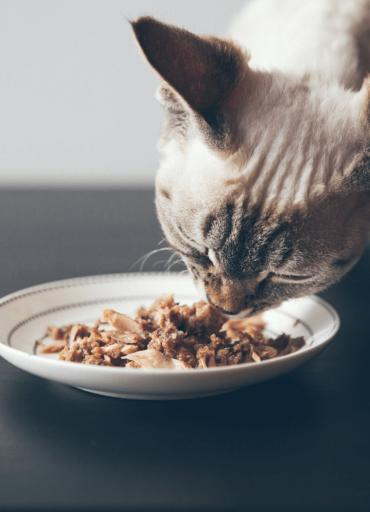cat_eating: (0, 0, 369, 399)
